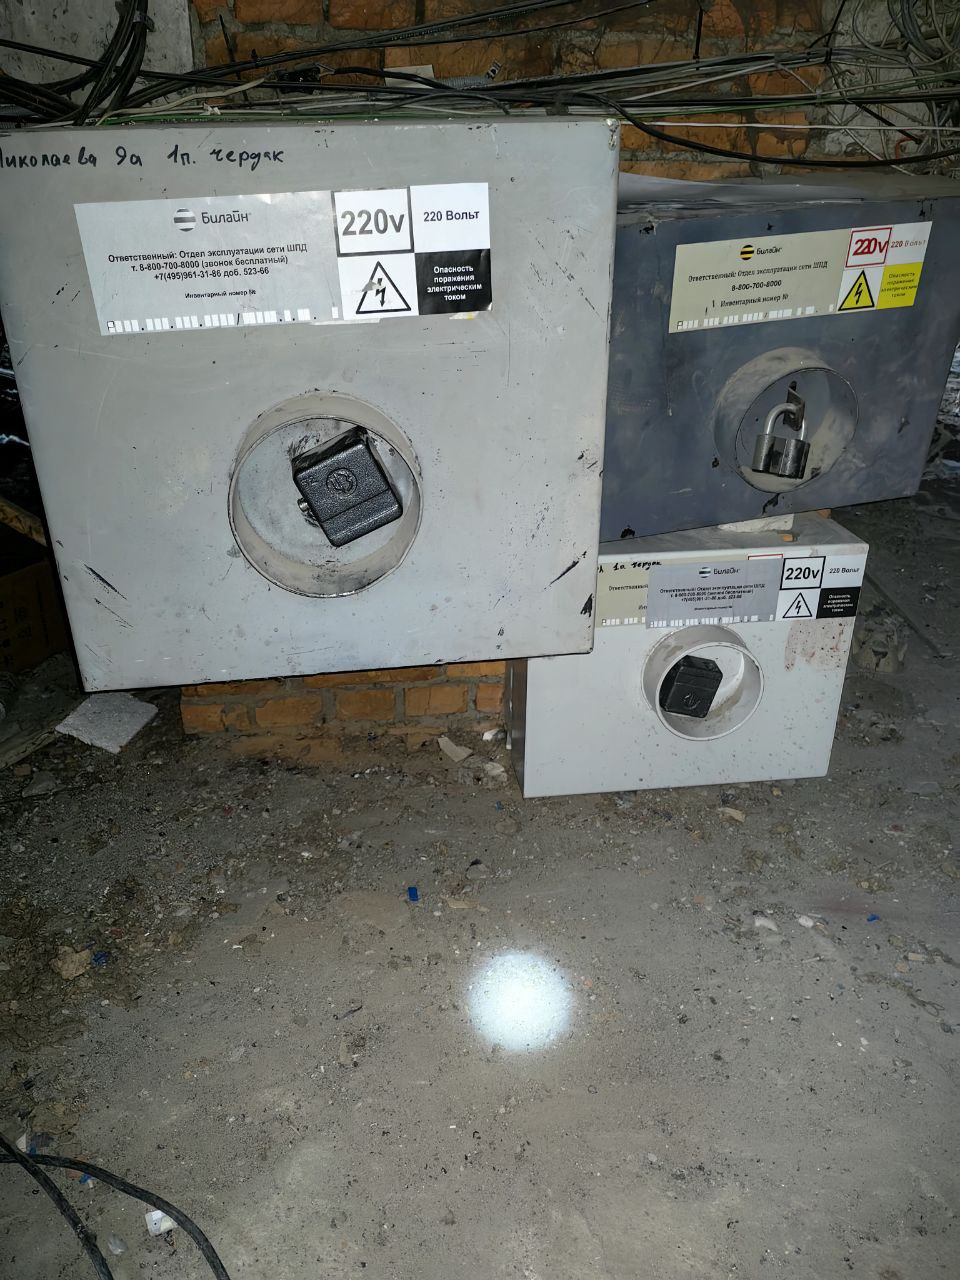shta-3: (605, 162, 957, 541), (499, 511, 879, 799)
shta-9: (4, 111, 626, 698)
